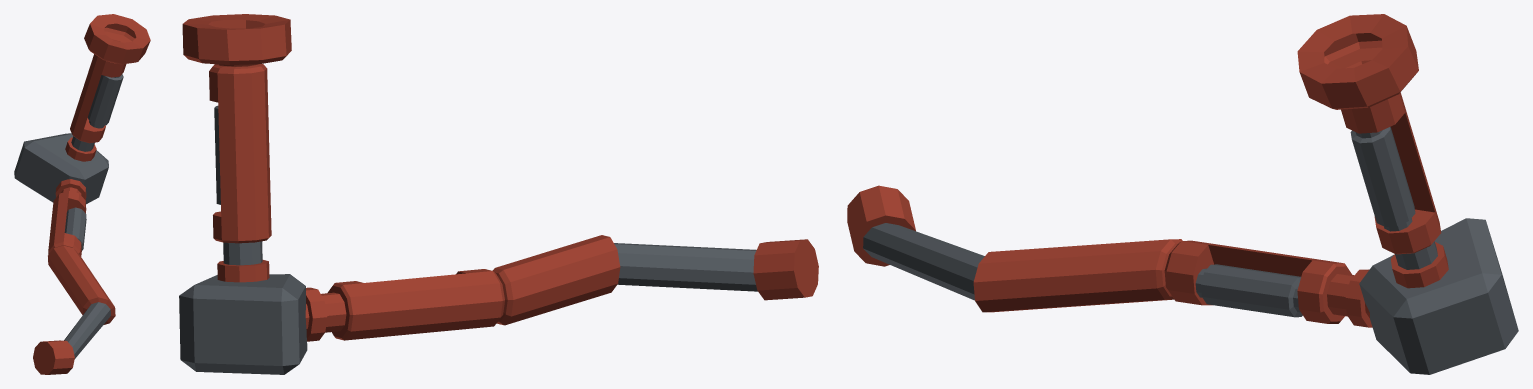
The model's file is Fighter_03_Leg_Frame_Left_Red.fbx.
3 renders of one model, left to right at view 1: azimuth 30°, elevation 25°; view 2: azimuth 150°, elevation 25°; view 3: azimuth 270°, elevation 25°, orthographic. The views are drawn at different scales.
Parts seen in each view (by area): view 1: Fighter_03_Leg_Frame_Left_Red; view 2: Fighter_03_Leg_Frame_Left_Red; view 3: Fighter_03_Leg_Frame_Left_Red.
Boxes of the visible parts, x1=… form: Fighter_03_Leg_Frame_Left_Red: x1=14, y1=14, x2=150, y2=374; Fighter_03_Leg_Frame_Left_Red: x1=179, y1=14, x2=818, y2=374; Fighter_03_Leg_Frame_Left_Red: x1=847, y1=14, x2=1518, y2=374.
Size of the model in its own units: 155 by 135 by 205.
Materials: 1 (1 with a texture image).
